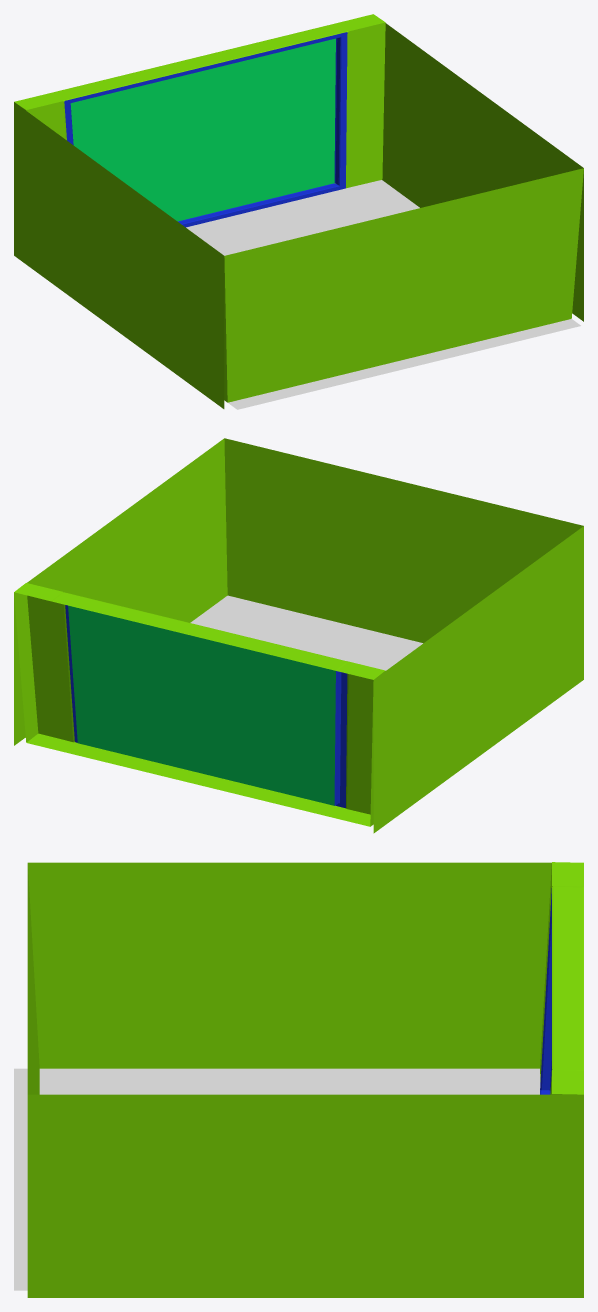
File: room_test.fbx
The picture shows the model from 3 angles, top to bottom: view 1: azimuth 30°, elevation 25°; view 2: azimuth 150°, elevation 25°; view 3: azimuth 270°, elevation 25°; orthographic projection. The views are drawn at different scales.
Parts seen in each view (by area): view 1: Cube, Cube.003; view 2: Cube, Cube.003; view 3: Cube, Cube.003.
Boxes of the visible parts, left/top/right/bottom form: Cube: left=14, top=14, right=583, bottom=408; Cube.003: left=186, top=180, right=580, bottom=409; Cube: left=14, top=438, right=583, bottom=833; Cube.003: left=190, top=595, right=422, bottom=670; Cube: left=27, top=862, right=583, bottom=1297; Cube.003: left=14, top=1068, right=540, bottom=1290.
Bounding box in the file's own units: 59.25 × 24.31 × 61.56.
